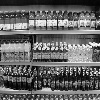beer: (28, 11, 35, 28)
